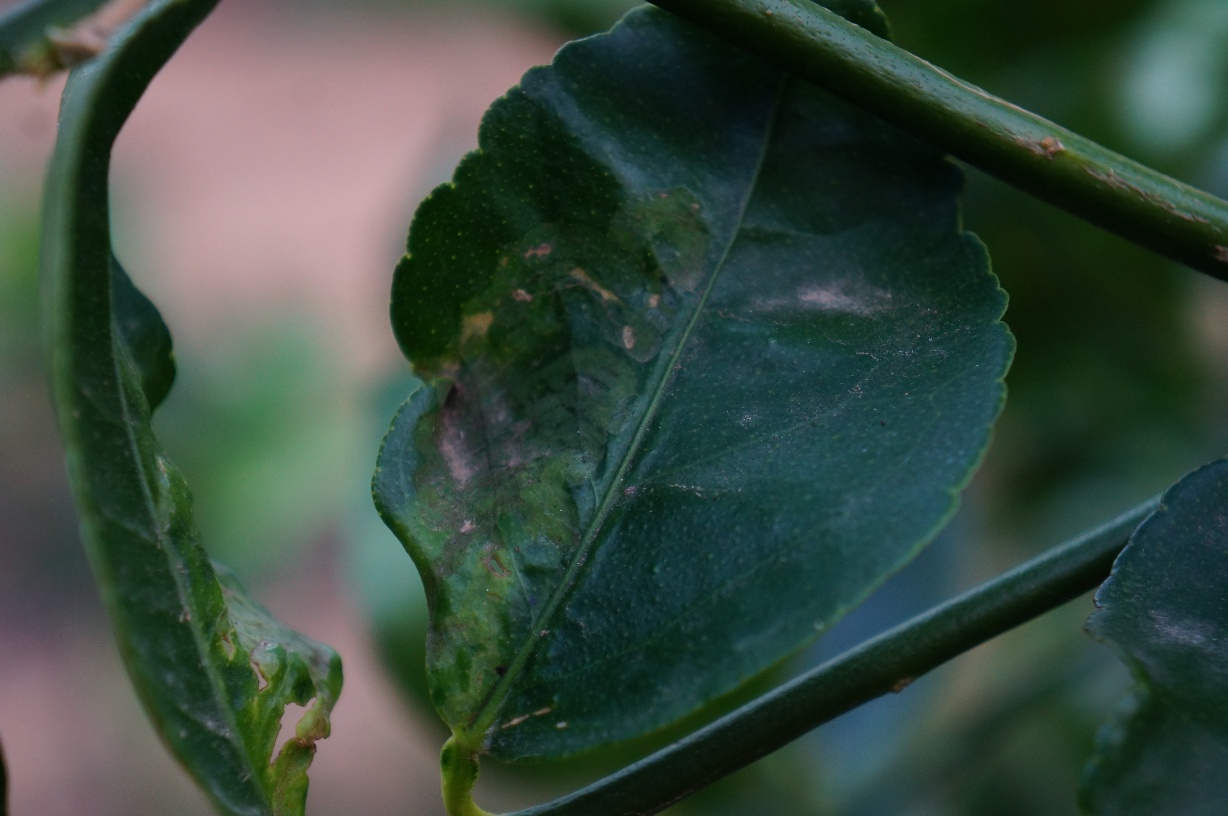damage: (382, 182, 719, 742)
